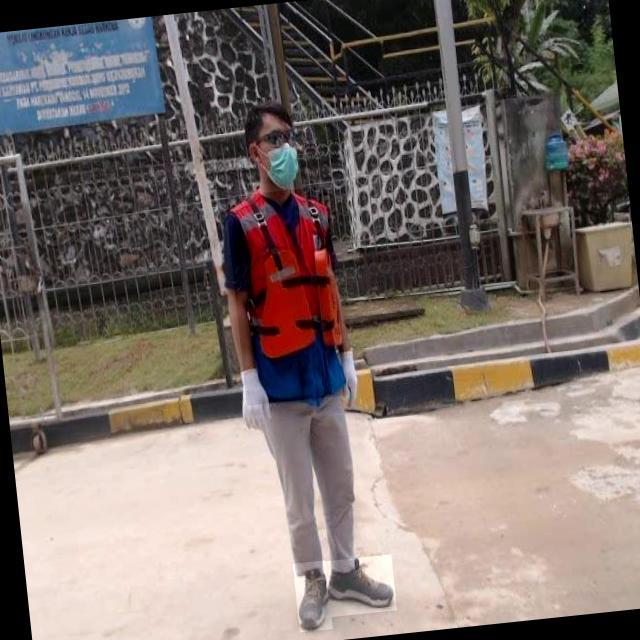Safety Boot: (324, 554, 397, 617), (293, 560, 333, 632)
Safety Vest: (225, 186, 348, 406)
